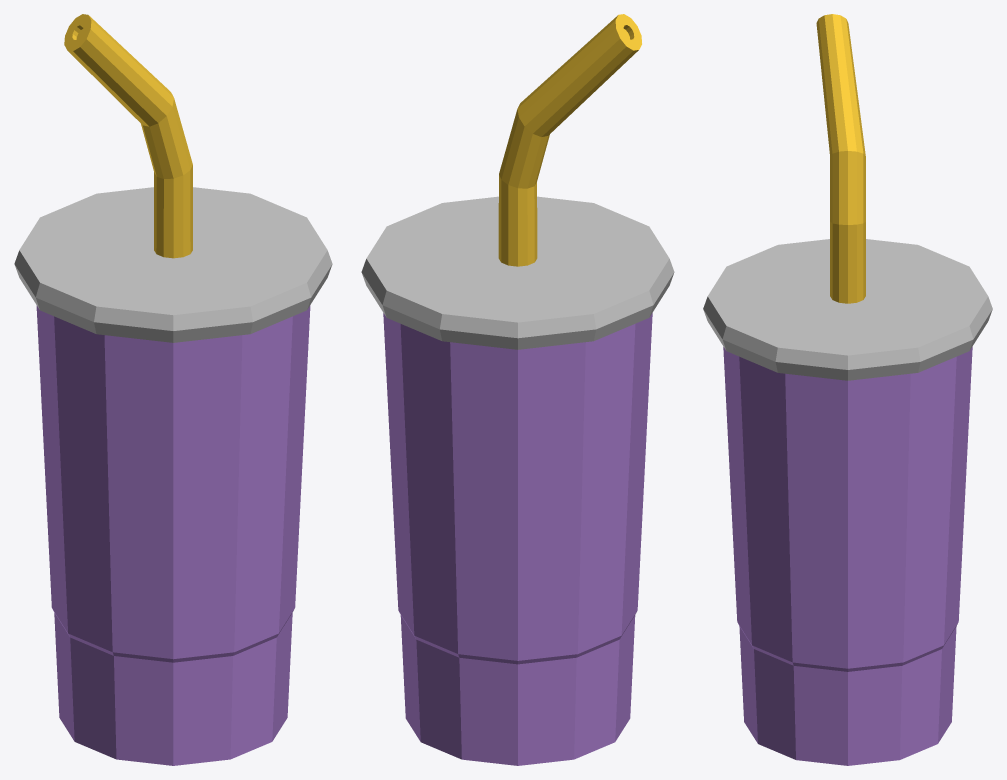
The model's file is Juice Cup_3.fbx.
The picture shows the model from 3 angles, left to right: view 1: azimuth 30°, elevation 25°; view 2: azimuth 150°, elevation 25°; view 3: azimuth 270°, elevation 25°; orthographic projection. The views are drawn at different scales.
Visible parts, largest first — view 1: Juice Cup_3; view 2: Juice Cup_3; view 3: Juice Cup_3.
Boxes of the visible parts, x1,y1,x2,y2 form: Juice Cup_3: [14, 14, 332, 765]; Juice Cup_3: [361, 14, 674, 765]; Juice Cup_3: [703, 14, 992, 765].
Bounding box in the file's own units: 0.0538 × 0.1366 × 0.0538.
